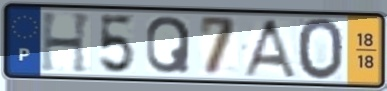5: (97, 12, 138, 75)
7: (196, 14, 241, 78)
A: (239, 17, 300, 80)
H: (39, 11, 95, 76)
O: (295, 16, 346, 83)
Q: (144, 14, 193, 76)
